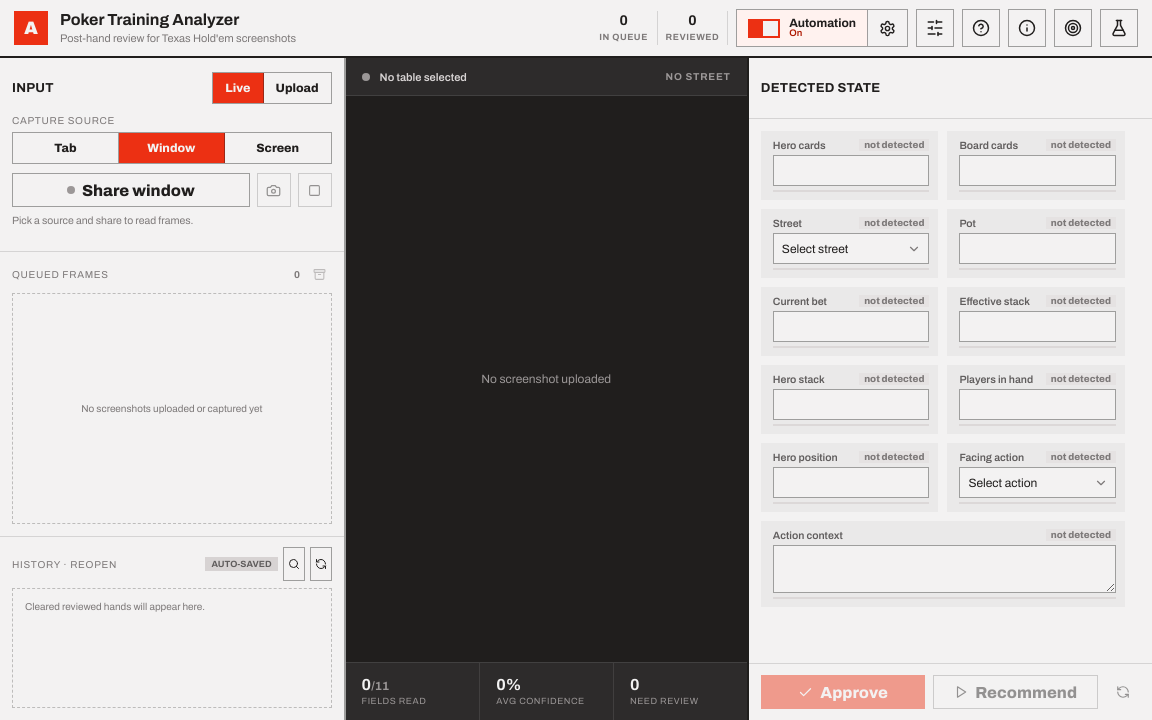
Test: Analyzer training progress › falls back to action accuracy when suggesting an ungraded focus street
Click the button named "Training progress": (1073, 28) top-left (1054, 9), bottom-right (1092, 47)
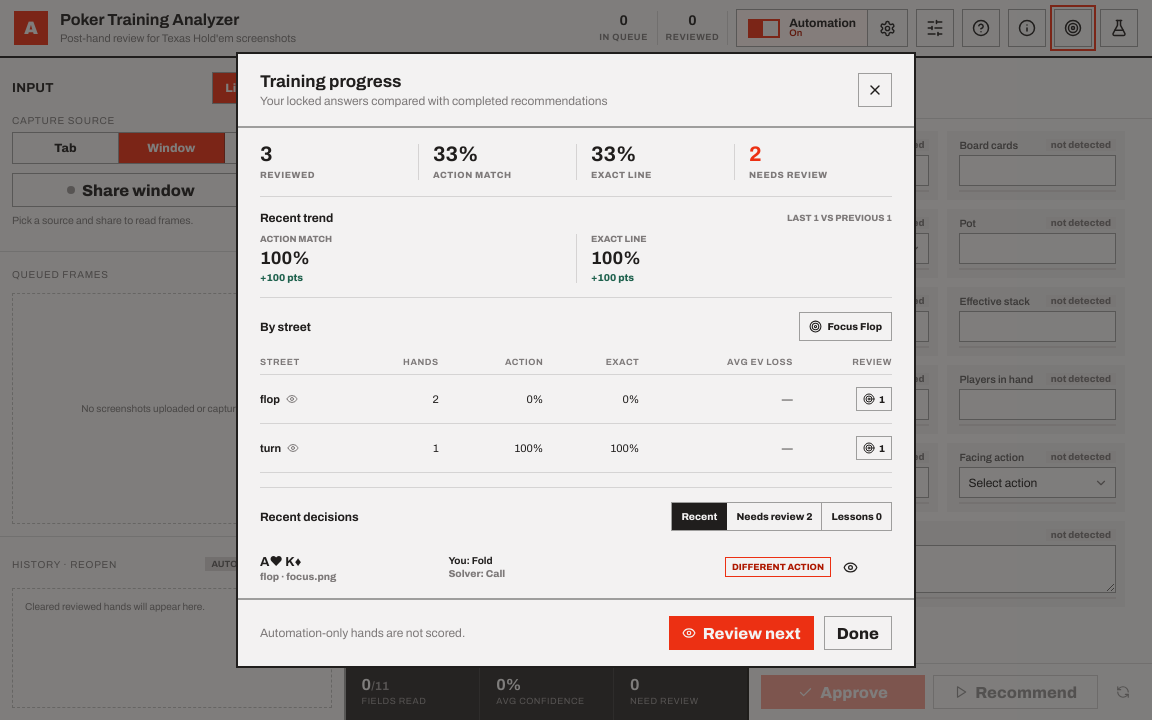
Expected: the button with aria-label "Focus flop reviews: Lowest action match: 0%" is shown, top-left (798, 312), bottom-right (892, 341)
